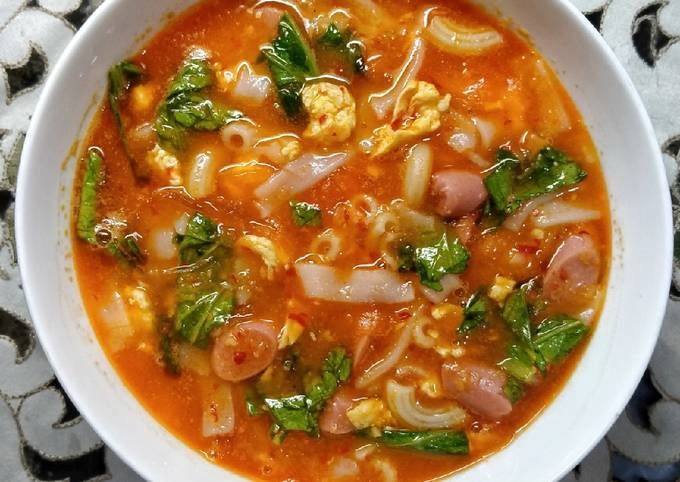seblak: (71, 1, 613, 482)
